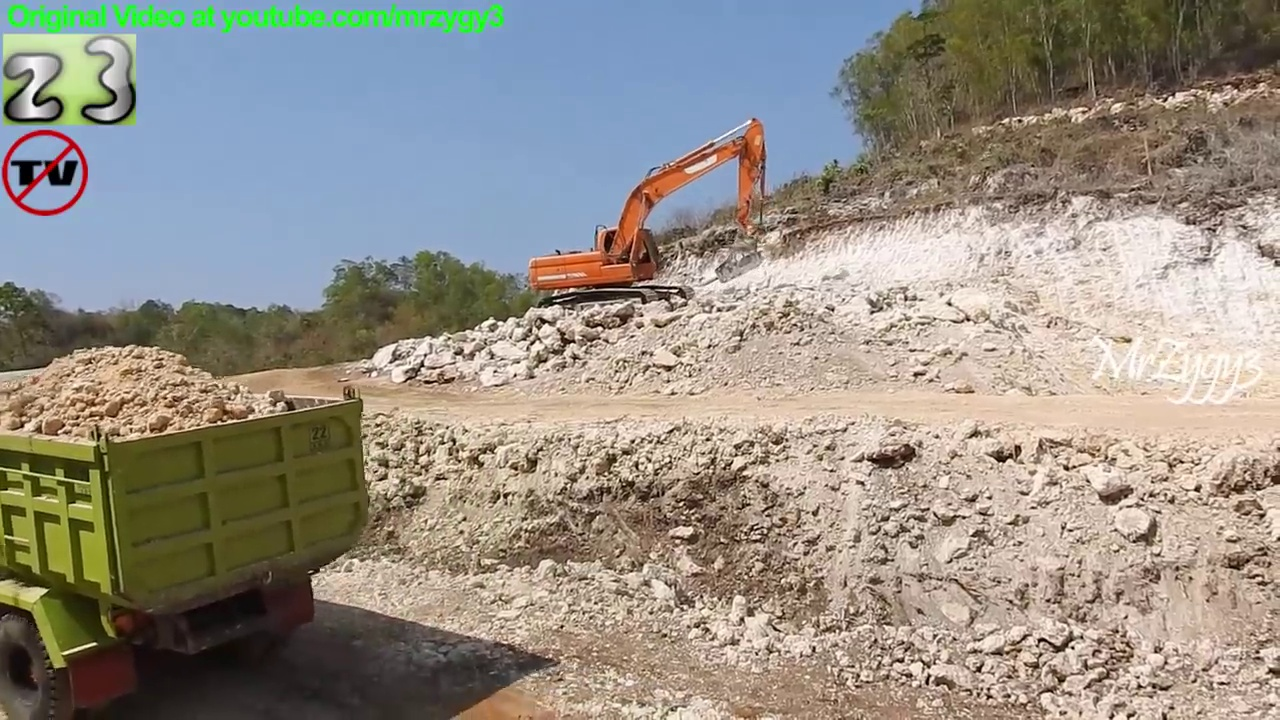excavator breaker: (523, 113, 774, 326)
truck: (1, 374, 375, 720)
